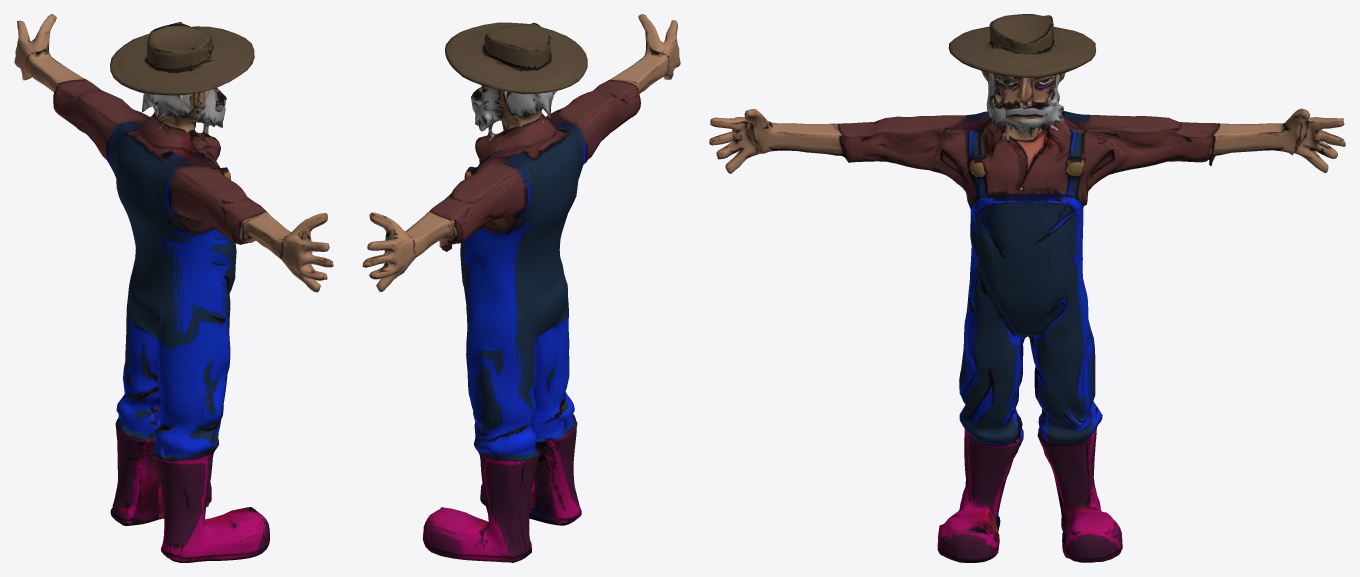
Rendered from farmer.fbx.
3 renders of one model, left to right at view 1: azimuth 30°, elevation 25°; view 2: azimuth 150°, elevation 25°; view 3: azimuth 270°, elevation 25°, orthographic. The views are drawn at different scales.
Parts seen in each view (by area): view 1: tripo_node_8f722f3b; view 2: tripo_node_8f722f3b; view 3: tripo_node_8f722f3b.
Boxes of the visible parts, left/top/right/bottom form: tripo_node_8f722f3b: left=14, top=14, right=333, bottom=562; tripo_node_8f722f3b: left=362, top=14, right=680, bottom=562; tripo_node_8f722f3b: left=709, top=14, right=1345, bottom=562.
Bounding box in the file's own units: 0.2359 × 0.8883 × 0.998.
1 material, 1 textured.
